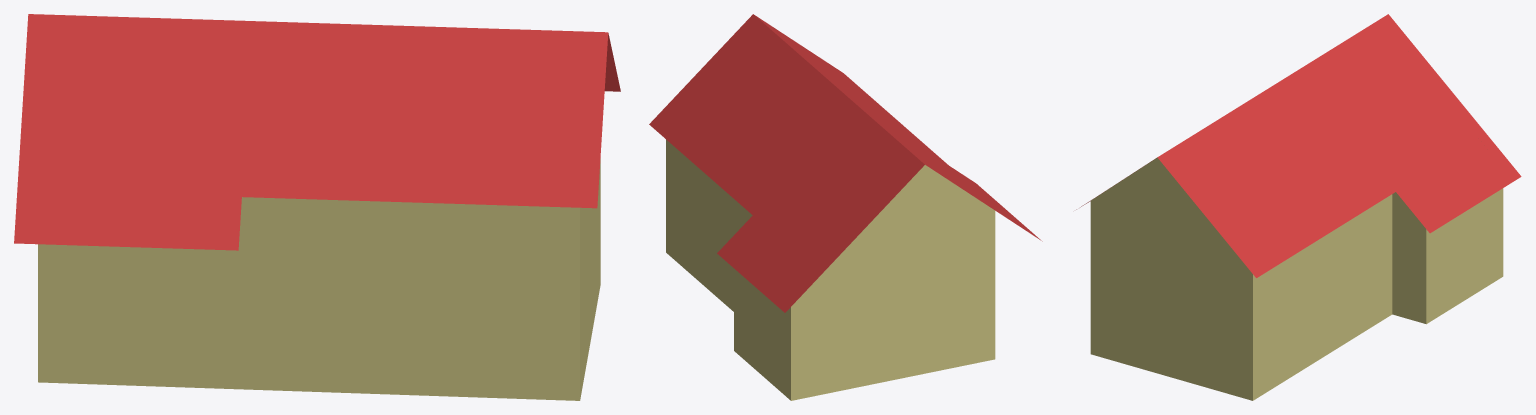
3 views of the same model, side by side, from view 1: azimuth 30°, elevation 25°; view 2: azimuth 150°, elevation 25°; view 3: azimuth 270°, elevation 25° (orthographic). The views are drawn at different scales.
Bounding box in the file's own units: 27.26 × 25.41 × 13.88.
